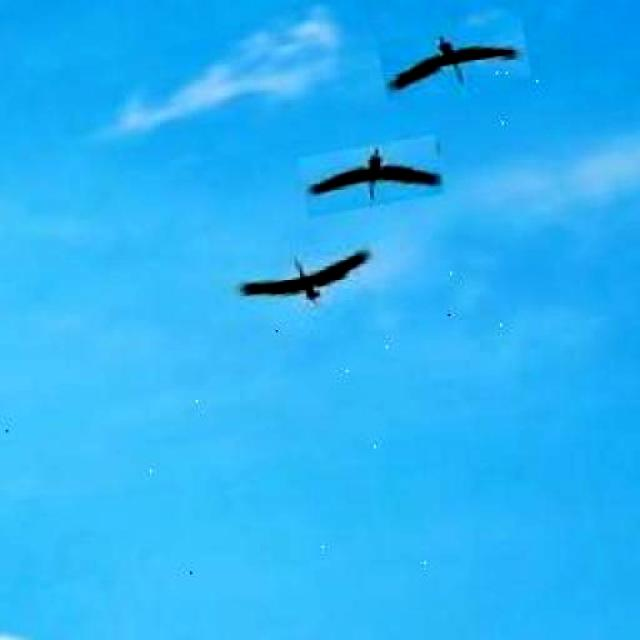airplane: (378, 18, 531, 101), (299, 134, 445, 216), (234, 242, 378, 319)
